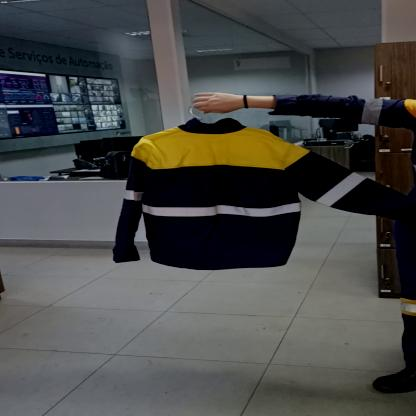C_eletrica: (114, 120, 415, 274)
